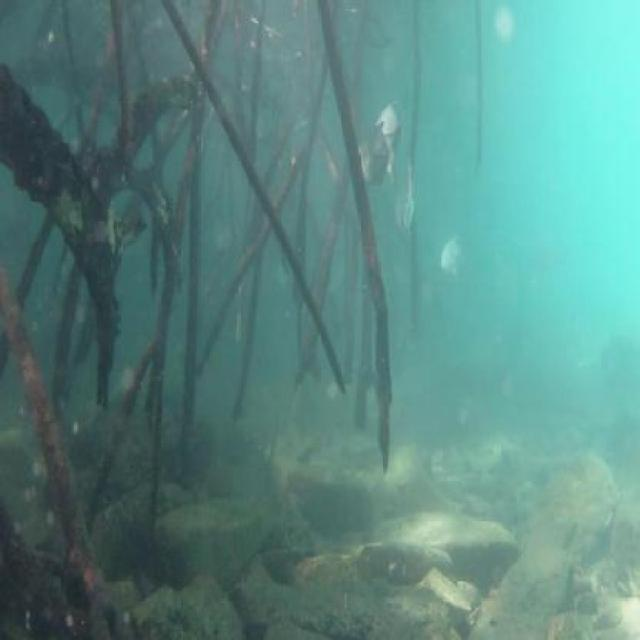Caranx_sexfasciatus_juvenile: (358, 104, 405, 188), (364, 93, 402, 178), (394, 173, 428, 244)
